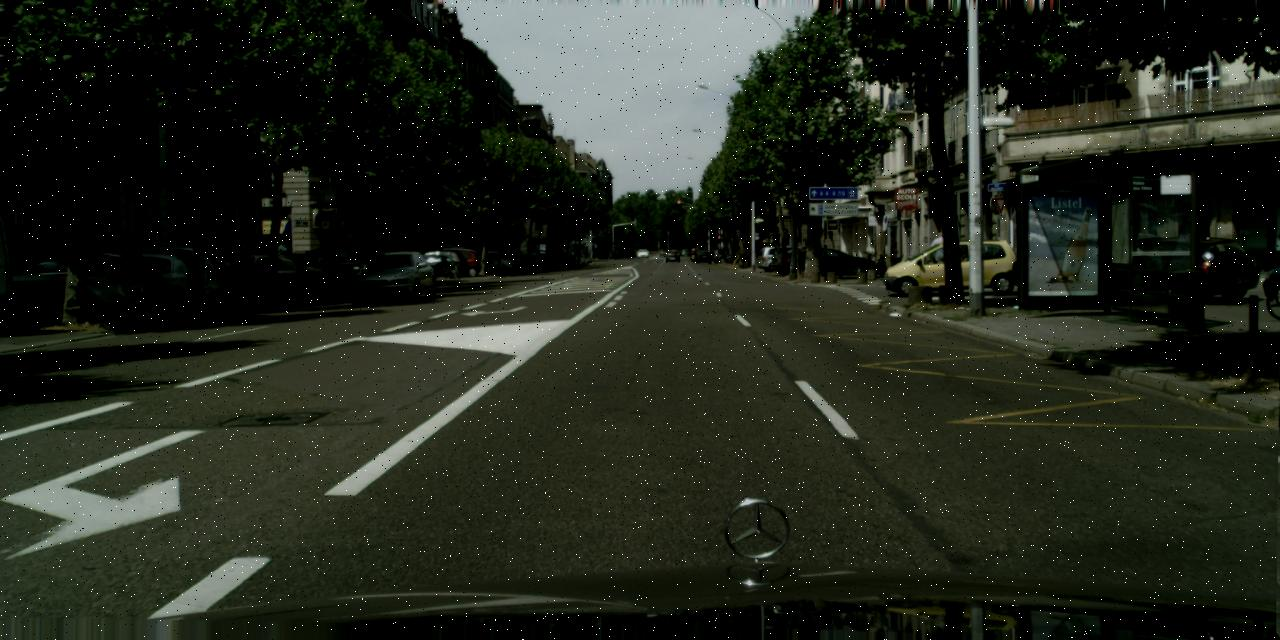ped: (932, 232, 949, 274), (691, 248, 695, 258)
